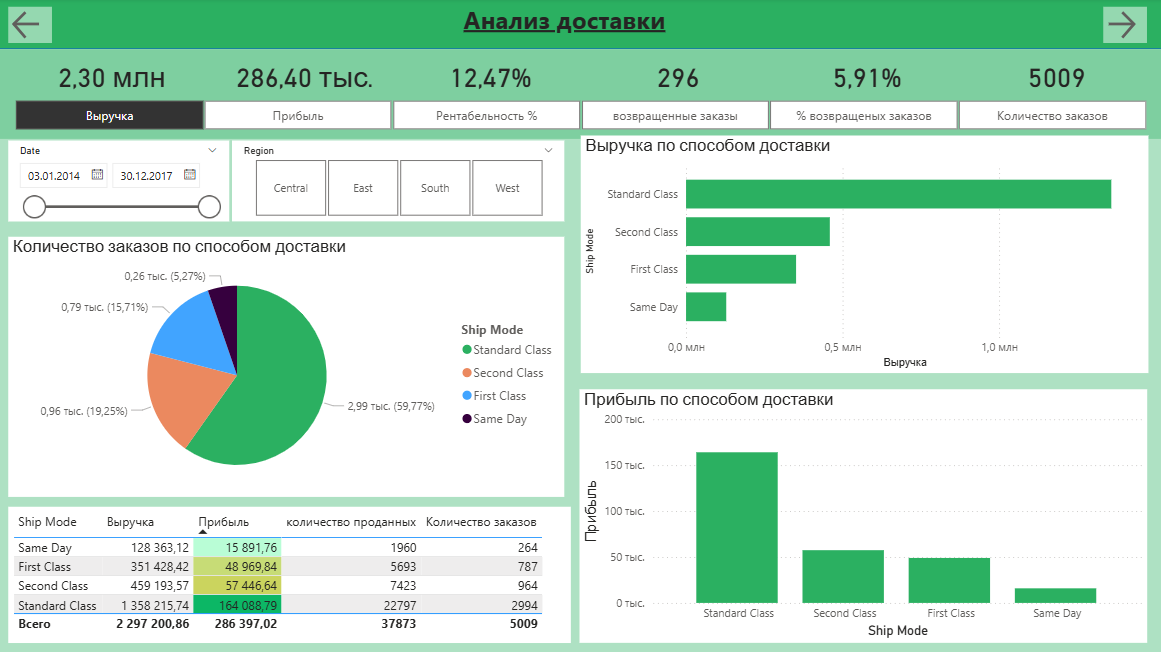

This screenshot's page, from the dashboard's own definition file:
{"tool":"powerbi","page":{"name":"Анализ доставки","canvas":[1280,720],"ordinal":3},"visuals":[{"type":"shape","box":[0,0,1280.3,56.3],"z":0},{"type":"shape","box":[0,56.3,1280.3,98.8],"z":1000},{"type":"slicer","fields":{"Values":["Параметр 2.Параметр"]},"box":[0,105.7,1280.3,45.3],"z":2000},{"type":"card","fields":{"Values":["меры.Выручка"]},"box":[50.8,67.2,150.9,38.4],"z":3000},{"type":"card","fields":{"Values":["меры.Рентабельность продаж %"]},"box":[461.1,67.2,161.9,38.4],"z":4000},{"type":"card","fields":{"Values":["меры.возвращенные заказы"]},"box":[666.9,67.2,161.9,38.4],"z":5000},{"type":"card","fields":{"Values":["меры.% возвращеных заказов"]},"box":[874.1,67.2,161.9,38.4],"z":6000},{"type":"card","fields":{"Values":["меры.Количество заказов"]},"box":[1077.2,67.2,171.5,38.4],"z":7000},{"type":"card","fields":{"Values":["меры.Прибыль"]},"box":[255.2,67.2,164.7,38.4],"z":8000},{"type":"slicer","fields":{"Values":["Calendar.Date"]},"box":[12.3,156.4,241.5,89.2],"z":9000},{"type":"slicer","fields":{"Values":["Orders.Region"]},"box":[258,156.4,365,89.2],"z":10000},{"type":"tableEx","fields":{"Values":["Orders.Ship Mode","меры.Выручка","меры.Прибыль","Sum(Orders.Quantity)","Orders.Order ID"]},"box":[12.3,558.5,617.5,149.6],"z":12000},{"type":"pieChart","title":"Количество заказов по способом доставки","fields":{"Category":["Orders.Ship Mode"],"Y":["Count(Orders.Order ID)"]},"box":[12.3,262.1,610.6,285.4],"z":13000},{"type":"barChart","title":"Выручка по способом доставки","fields":{"Category":["Orders.Ship Mode"],"Y":["меры.Выручка"]},"box":[640.8,150.9,623,260.7],"z":14000},{"type":"columnChart","title":"Прибыль по способом доставки","fields":{"Category":["Orders.Ship Mode"],"Y":["меры.Прибыль"]},"box":[639.5,429.5,623,278.6],"z":15000},{"type":"actionButton","box":[12.3,9.6,48,39.8],"z":16000},{"type":"actionButton","box":[1214.4,9.6,48,39.8],"z":17000},{"type":"textbox","box":[473.4,0,299.1,56.3],"z":18000}]}

Visuals, with their boxes in screenshot pixels (x1, y1, x2, y2), scaled from the page's 1280x720 canvas onto the 1161x652 screenshot:
shape: box(0, 0, 1160, 51)
shape: box(0, 51, 1160, 140)
slicer - Параметр 2.Параметр: box(0, 96, 1160, 137)
card - меры.Выручка: box(46, 61, 183, 96)
card - меры.Рентабельность продаж %: box(418, 61, 565, 96)
card - меры.возвращенные заказы: box(605, 61, 752, 96)
card - меры.% возвращеных заказов: box(793, 61, 940, 96)
card - меры.Количество заказов: box(977, 61, 1133, 96)
card - меры.Прибыль: box(231, 61, 381, 96)
slicer - Calendar.Date: box(11, 142, 230, 222)
slicer - Orders.Region: box(234, 142, 565, 222)
tableEx - Orders.Ship Mode x меры.Выручка: box(11, 506, 571, 641)
"Количество заказов по способом доставки" pieChart: box(11, 237, 565, 496)
"Выручка по способом доставки" barChart: box(581, 137, 1146, 373)
"Прибыль по способом доставки" columnChart: box(580, 389, 1145, 641)
actionButton: box(11, 9, 55, 45)
actionButton: box(1101, 9, 1145, 45)
textbox: box(429, 0, 701, 51)
